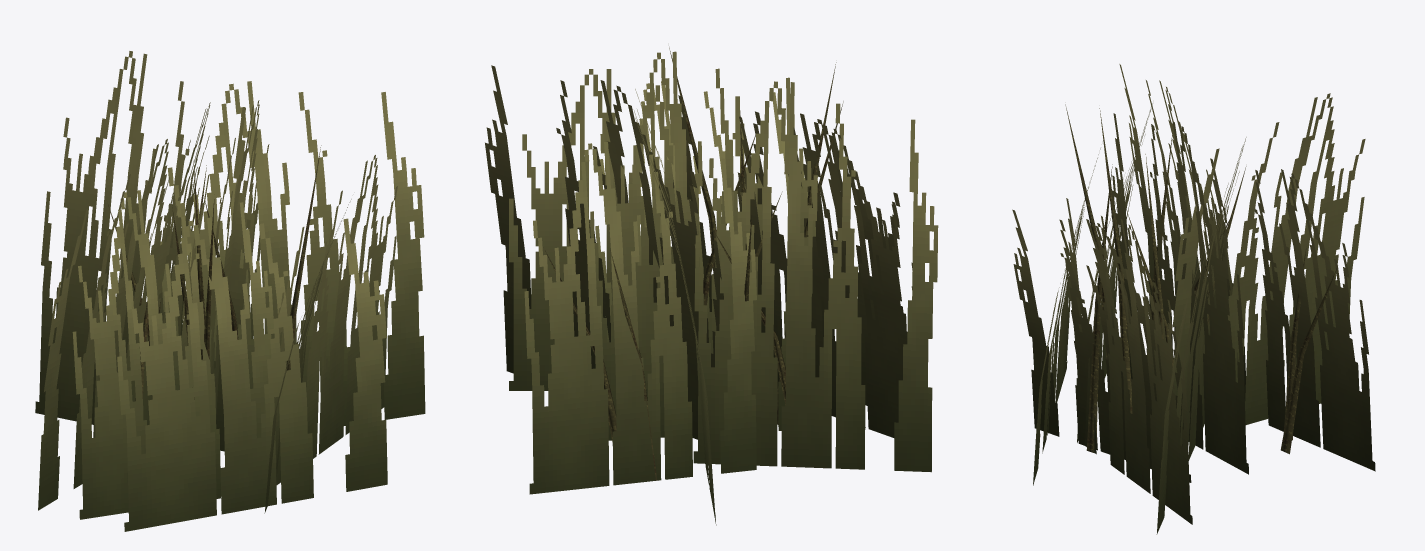
The model's file is ext_tall_grass.glb.
3 views of the same model, side by side, from view 1: azimuth 30°, elevation 25°; view 2: azimuth 150°, elevation 25°; view 3: azimuth 270°, elevation 25° (orthographic). The views are drawn at different scales.
Visible parts, largest first — view 1: blades; view 2: blades; view 3: blades.
Boxes of the visible parts, x1,y1,x2,y2 form: blades: [35, 51, 425, 531]; blades: [485, 47, 938, 525]; blades: [1012, 64, 1375, 534].
Size of what is drawn, in the model's own units: 1.83 by 1.58 by 1.68.
2 materials, 2 textured.
